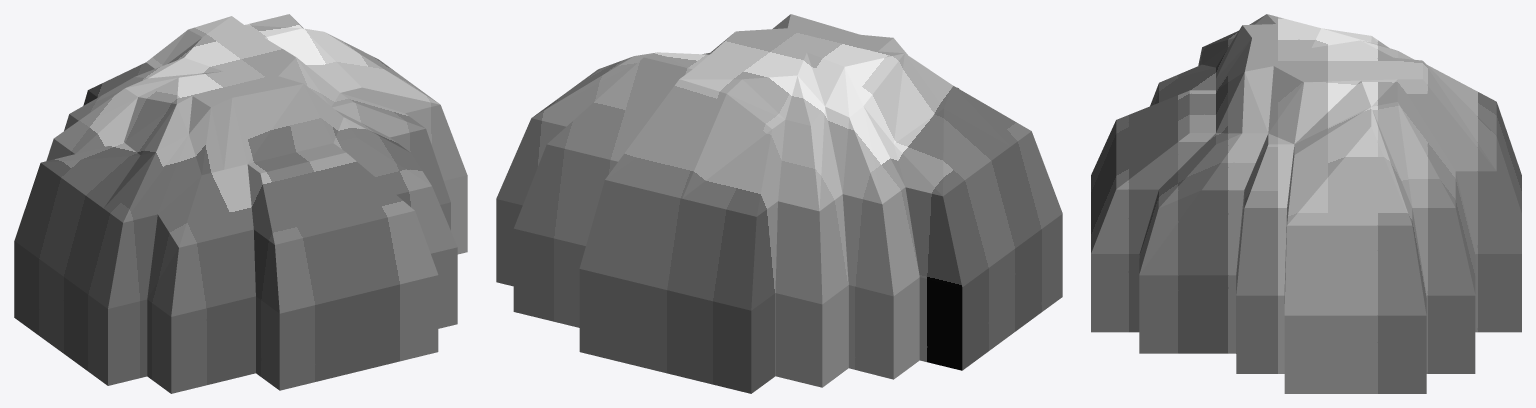
Rendered from Rock_331x09.gltf.
3 renders of one model, left to right at view 1: azimuth 30°, elevation 25°; view 2: azimuth 150°, elevation 25°; view 3: azimuth 270°, elevation 25°, orthographic. The views are drawn at different scales.
Visible parts, largest first — view 1: Rock_331x09; view 2: Rock_331x09; view 3: Rock_331x09.
Boxes of the visible parts, bbox=[...] form: Rock_331x09: bbox=[14, 14, 467, 393]; Rock_331x09: bbox=[496, 14, 1062, 393]; Rock_331x09: bbox=[1091, 14, 1521, 393].
Bounding box in the file's own units: 0.5395 × 0.2879 × 0.486.
1 material, 1 textured.
